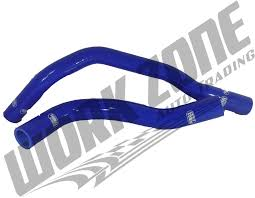radiator_hose: (8, 47, 251, 114), (14, 95, 225, 147)
